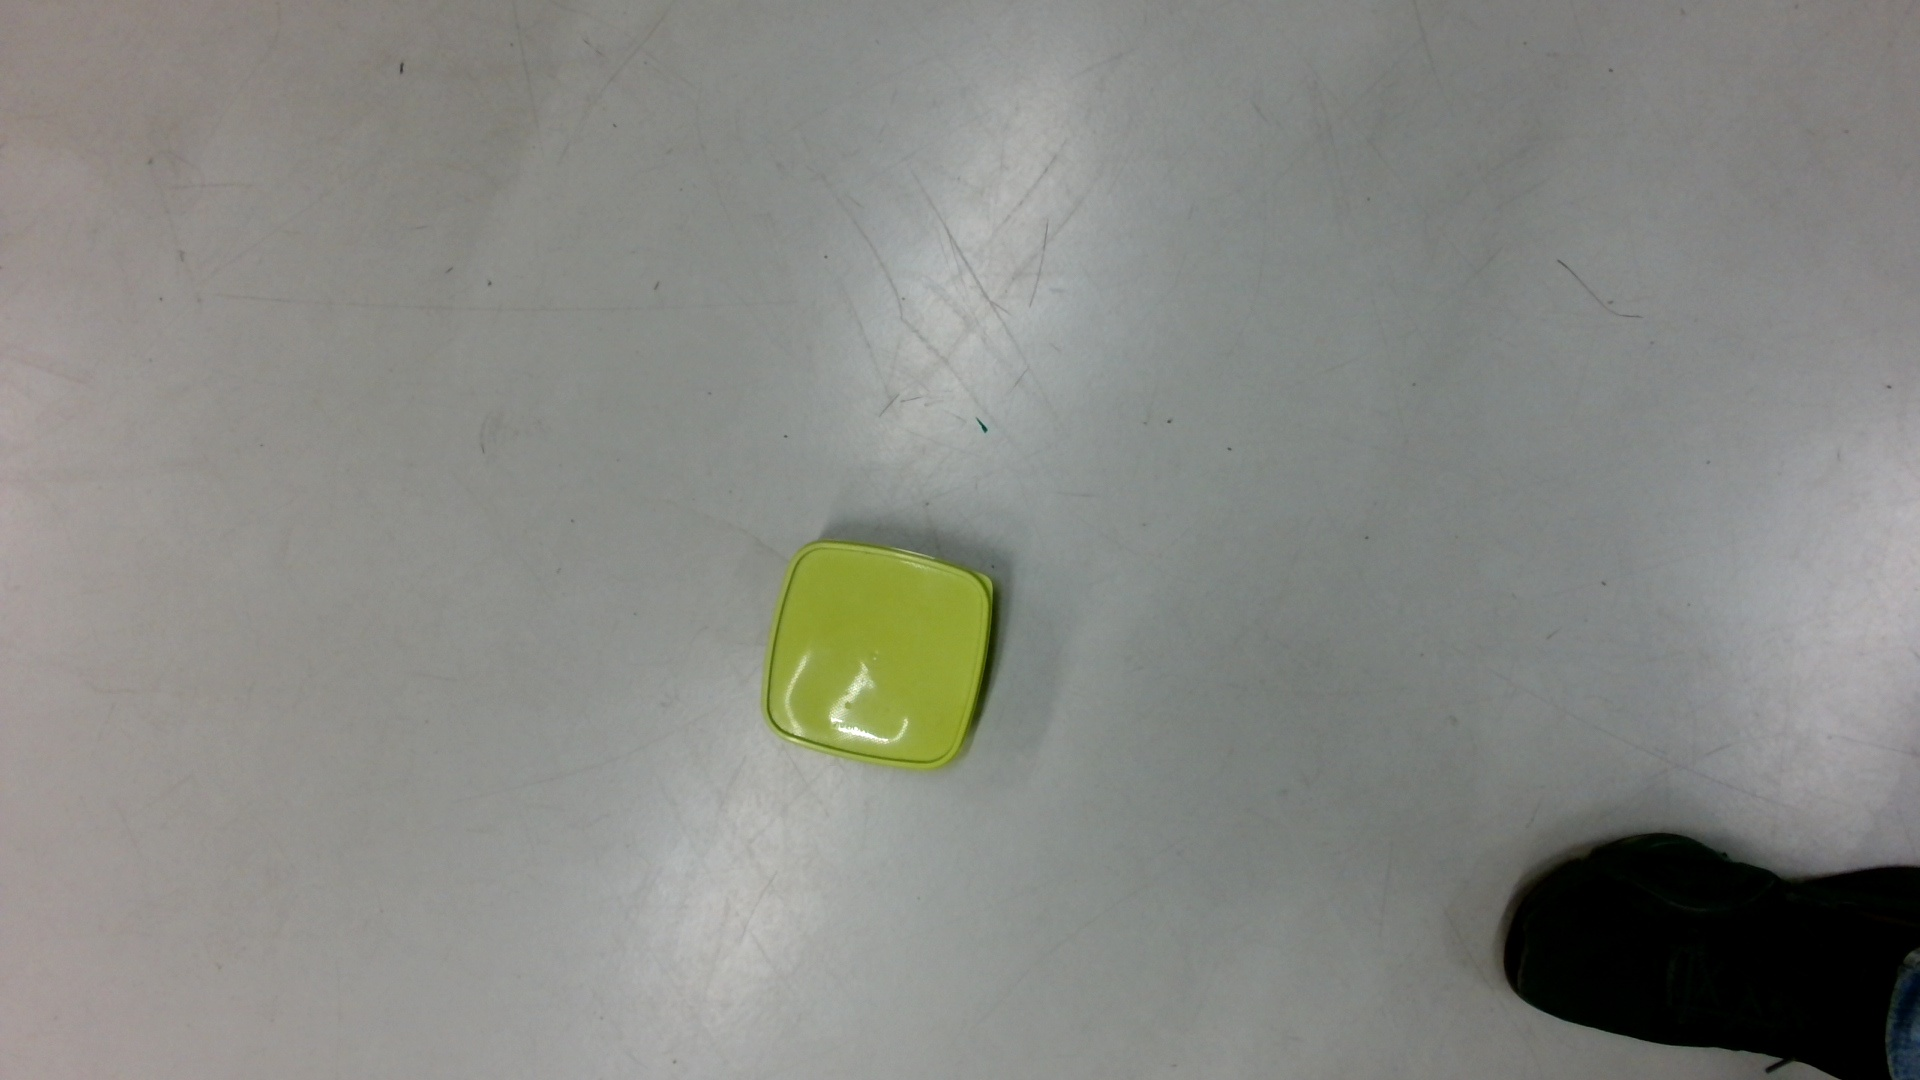Box: (757, 534, 1002, 777)
